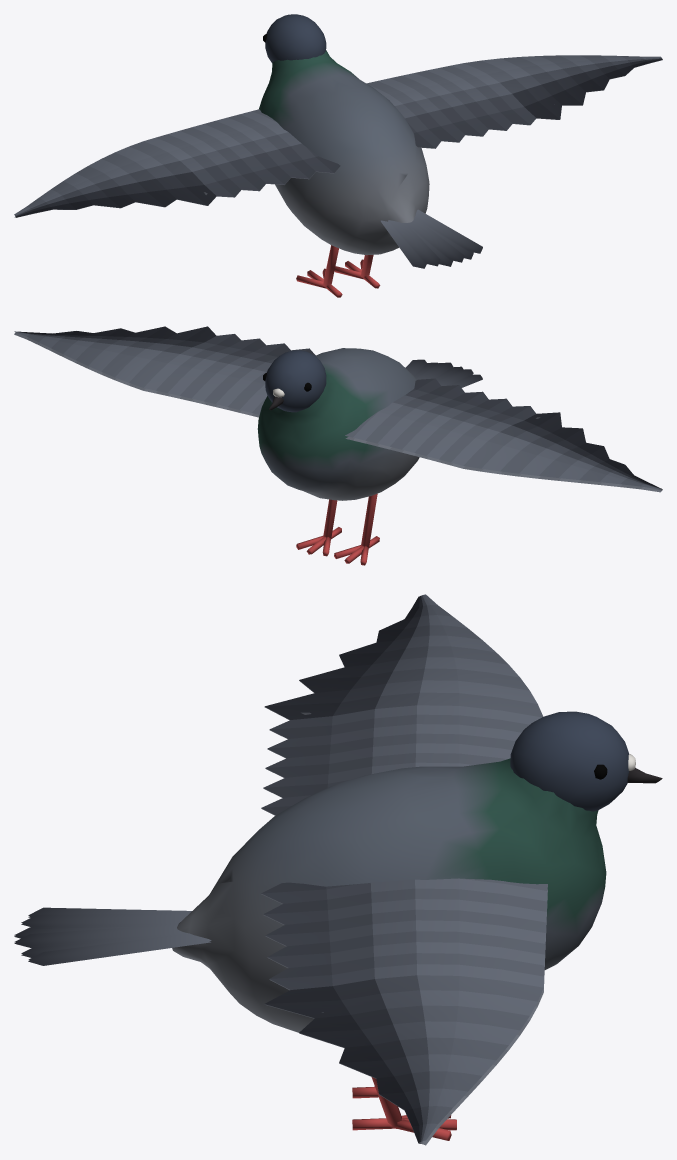
Rendered from bird_pigeon.glb.
3 renders of one model, top to bottom at view 1: azimuth 30°, elevation 25°; view 2: azimuth 150°, elevation 25°; view 3: azimuth 270°, elevation 25°, orthographic. The views are drawn at different scales.
Parts seen in each view (by area): view 1: Body, WingL, WingR, WingL2, WingR2, Tail, Head, Legs; view 2: Body, WingL, WingL2, WingR, WingR2, Head, Legs, Tail; view 3: Body, WingR, WingR2, WingL2, WingL, Head, Tail, Legs.
Part boxes in pixels (x1,y1,x2,y2): Body: [259, 50, 429, 255]; WingL: [144, 109, 340, 197]; WingR: [366, 63, 536, 148]; WingL2: [14, 141, 216, 217]; WingR2: [463, 55, 662, 119]; Tail: [381, 209, 482, 268]; Head: [263, 14, 326, 62]; Legs: [296, 245, 380, 297]; Body: [257, 348, 419, 500]; WingL: [345, 378, 536, 468]; WingL2: [463, 412, 662, 492]; WingR: [144, 334, 315, 417]; WingR2: [14, 326, 216, 390]; Head: [263, 350, 326, 412]; Legs: [296, 493, 379, 565]; Tail: [405, 359, 482, 387]; Body: [172, 758, 606, 1032]; WingR: [261, 878, 547, 992]; WingR2: [264, 975, 543, 1145]; WingL2: [264, 594, 543, 720]; WingL: [261, 705, 541, 815]; Head: [510, 711, 662, 811]; Tail: [14, 907, 211, 965]; Legs: [352, 1077, 456, 1140].
Bounding box in the file's own units: 0.7356 × 0.2496 × 0.3694.
